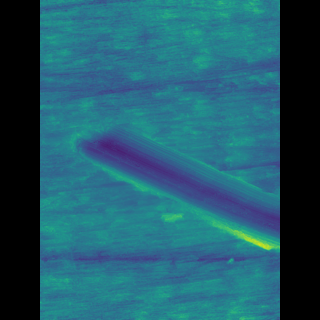Loch: (92, 119, 249, 257)
